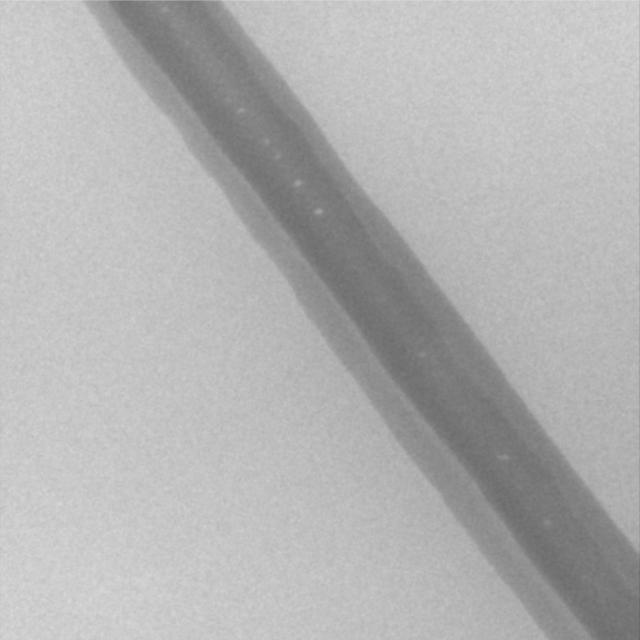air hole: (496, 452, 508, 463), (542, 519, 553, 527), (312, 208, 323, 216), (293, 180, 303, 188), (263, 137, 271, 146), (236, 107, 244, 114)
